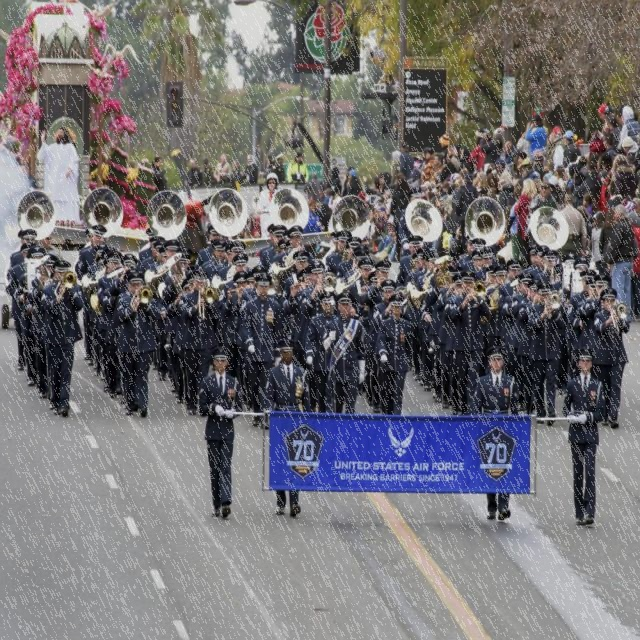pessoa: (396, 234, 462, 412), (138, 226, 196, 406), (5, 226, 58, 410), (81, 243, 139, 411), (262, 338, 312, 520), (559, 345, 608, 529), (472, 346, 520, 522), (195, 345, 242, 521), (38, 258, 86, 420), (240, 270, 282, 433), (176, 268, 221, 417), (115, 270, 158, 420), (448, 269, 491, 416), (524, 280, 566, 428), (591, 284, 632, 432), (319, 290, 367, 414), (588, 100, 640, 214), (567, 252, 611, 382), (493, 256, 525, 426), (372, 292, 414, 417), (452, 122, 516, 204), (360, 258, 394, 408), (407, 128, 454, 234), (304, 290, 344, 413), (372, 278, 407, 417), (78, 223, 112, 362), (36, 126, 82, 224), (297, 258, 326, 409), (347, 256, 377, 396), (206, 270, 260, 346), (604, 202, 636, 326), (194, 222, 270, 270), (528, 146, 590, 204), (358, 164, 398, 229), (326, 228, 370, 286), (462, 230, 494, 308), (554, 192, 588, 264), (398, 184, 430, 259), (524, 242, 568, 294), (514, 176, 538, 271), (280, 248, 311, 316), (507, 184, 530, 271), (389, 171, 412, 255), (256, 171, 284, 240), (546, 123, 566, 215), (624, 210, 640, 322), (268, 222, 304, 270), (460, 171, 480, 252), (598, 206, 619, 278), (286, 268, 318, 315), (224, 344, 248, 406), (302, 199, 326, 259), (524, 114, 550, 162), (304, 170, 342, 202), (590, 212, 608, 276), (370, 228, 397, 263), (480, 126, 504, 164), (562, 128, 582, 170), (532, 179, 558, 211), (286, 151, 310, 185), (398, 139, 416, 182), (212, 152, 233, 185), (150, 156, 168, 194), (516, 146, 528, 189), (186, 158, 203, 188), (328, 164, 342, 200), (243, 153, 259, 184), (201, 157, 216, 189), (346, 168, 363, 196), (314, 202, 332, 228), (274, 152, 286, 184), (128, 156, 149, 174), (230, 158, 244, 184), (262, 153, 274, 174), (576, 204, 590, 222), (388, 148, 401, 165), (245, 211, 261, 223)
